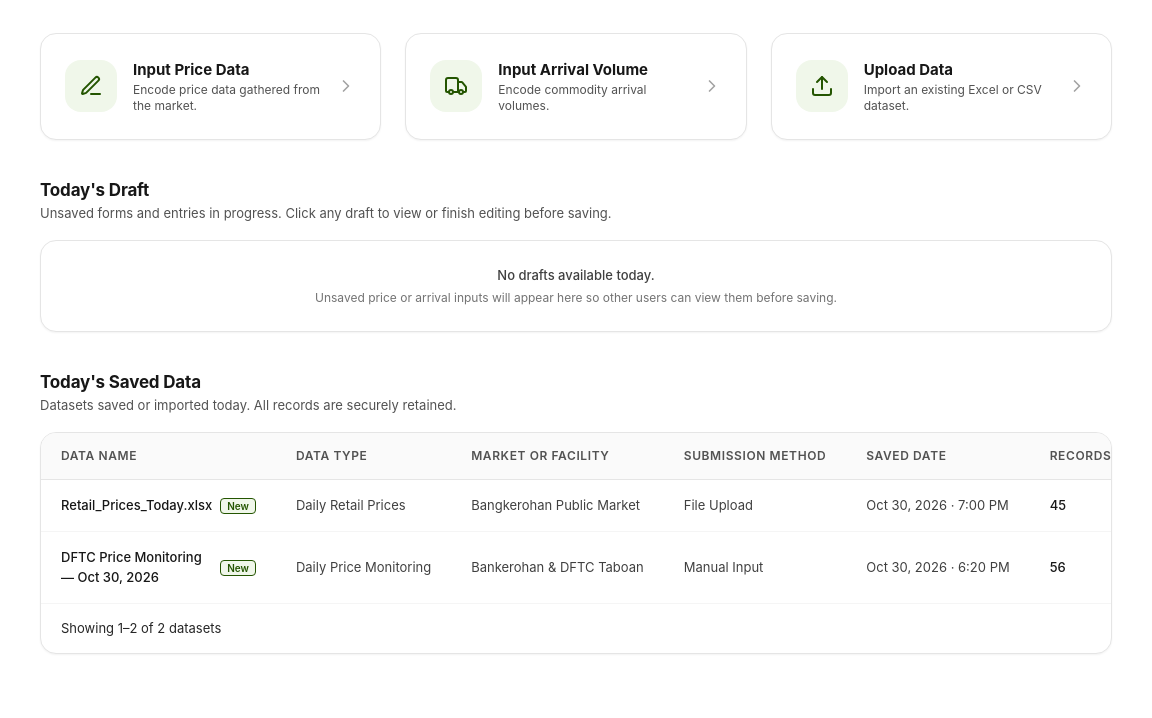
Test: DFTCInput Submit Data Page › ensures Encoded By and Prepared By are not editable select elements in file preview
(page scrolled)
Click the text "Bankerohan & DFTC Taboan" at x=586, y=568, box 41,532 -> 1131,603
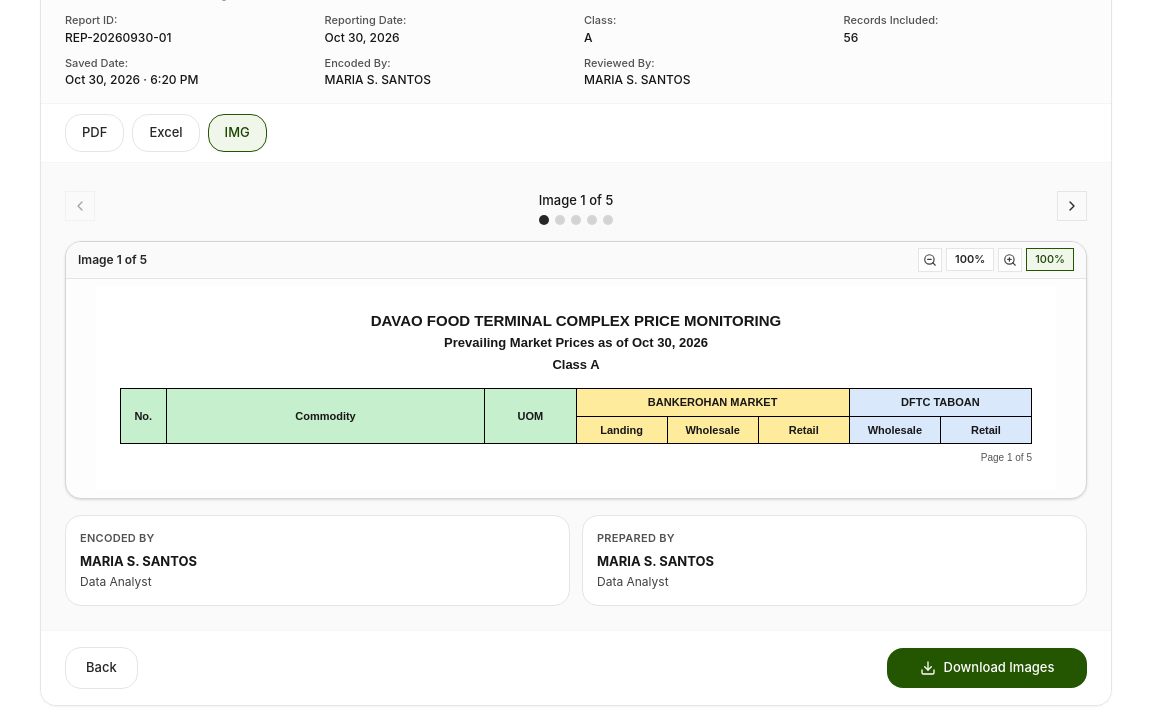
Result: the text "Encoded By:" is shown at 324,56 -> 391,70
Result: the text "Prepared by" is shown at 597,530 -> 675,544
